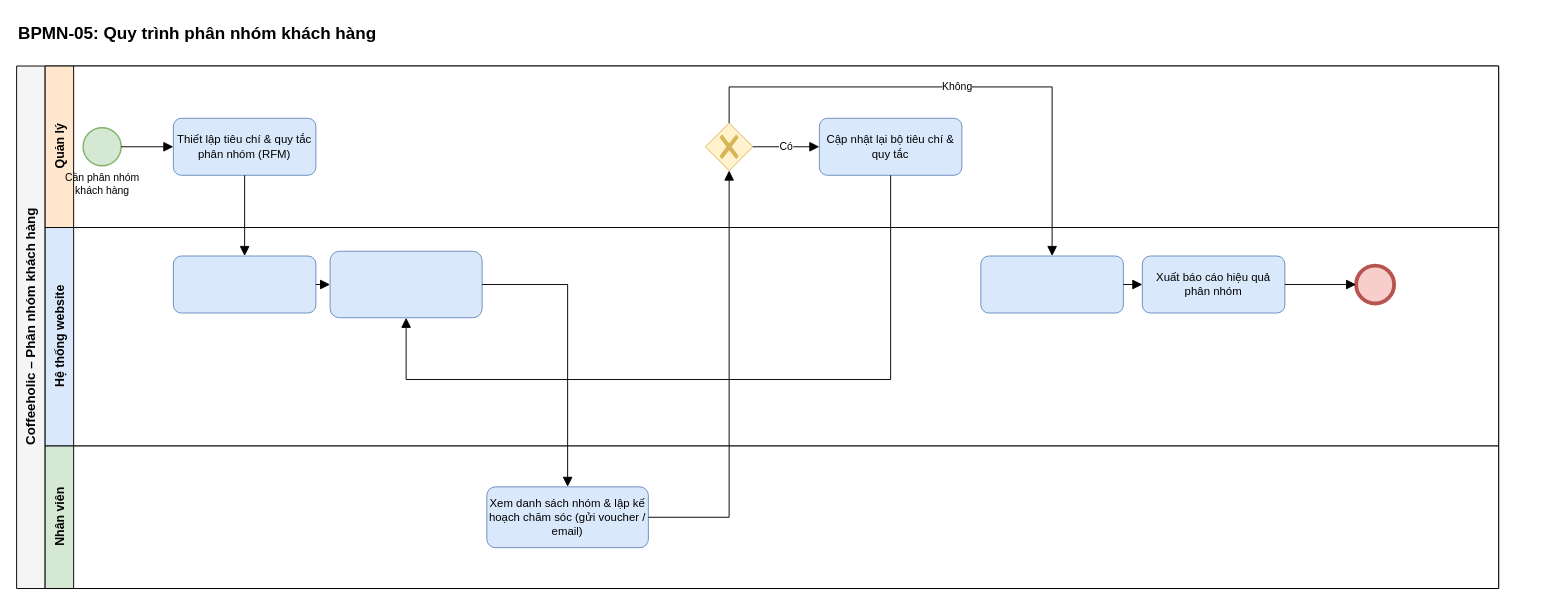
The diagram is 1553 pixels wide and 605 high, and some of its shapes have lost their labels. Here are the shapes that lost their labels. From the top down, the centre of each, then its label:
At pixel 728 146: "Cần điều chỉnh tiêu chí?".
At pixel 244 284: "Thu thập & tổng hợp dữ liệu giao dịch".
At pixel 405 284: "Phân tích & tự động gắn nhãn nhóm (VIP, tiềm năng, nguy cơ rời bỏ...)".
At pixel 1051 284: "Lưu & tự động cập nhật phân nhóm định kỳ".
At pixel 1375 284: "Kết thúc".
